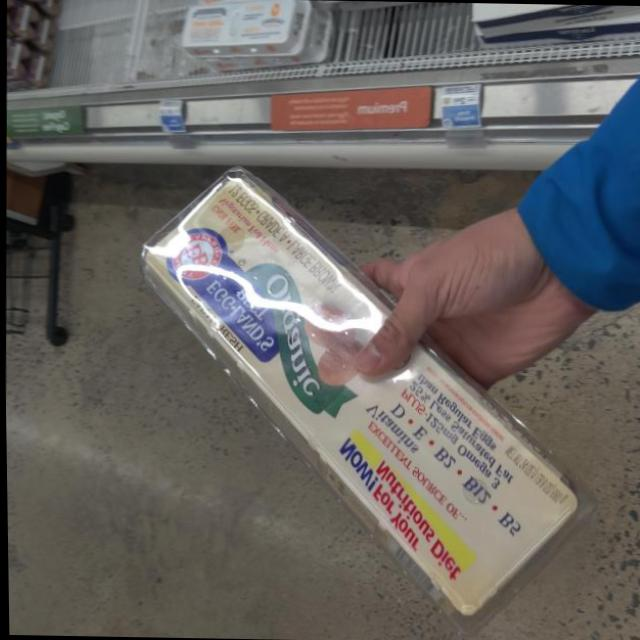Eggs: (131, 165, 588, 626), (176, 0, 313, 56)
